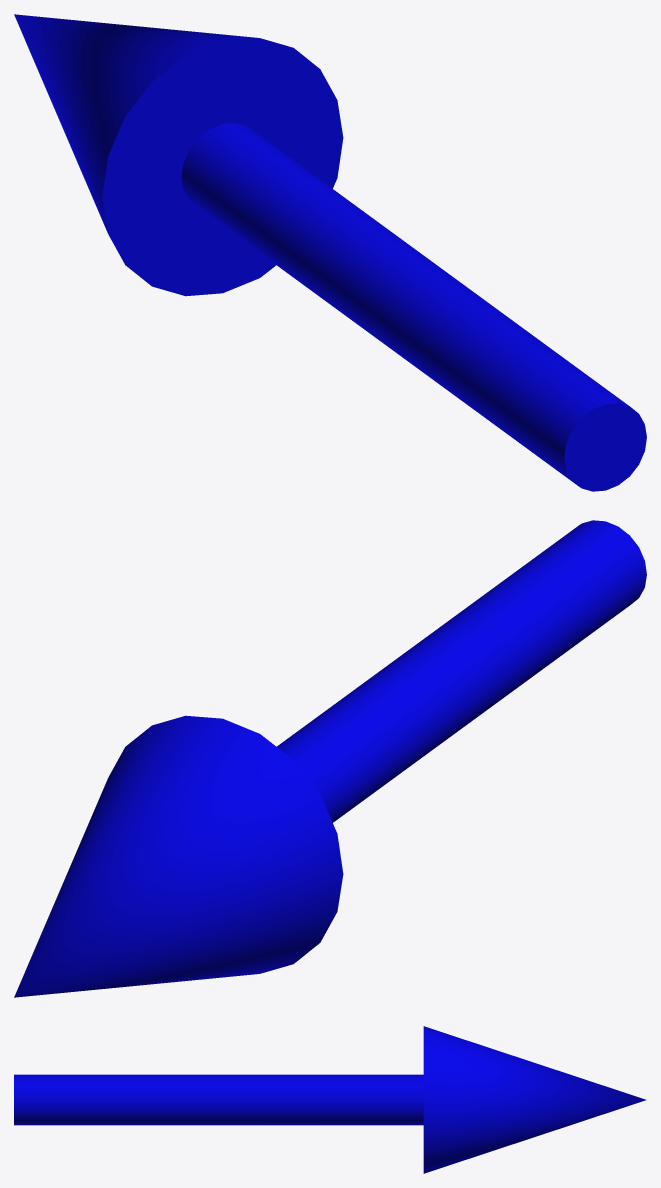
Rendered from Z_Arrow.fbx.
The picture shows the model from 3 angles, top to bottom: view 1: azimuth 30°, elevation 25°; view 2: azimuth 150°, elevation 25°; view 3: azimuth 270°, elevation 25°; orthographic projection. The views are drawn at different scales.
Parts seen in each view (by area): view 1: pCone2; view 2: pCone2; view 3: pCone2.
Part boxes in pixels (x1,y1,x2,y2): pCone2: [14, 14, 646, 491]; pCone2: [14, 520, 646, 997]; pCone2: [14, 1026, 645, 1173].
Size of the model in its own units: 1 by 1 by 4.25.
